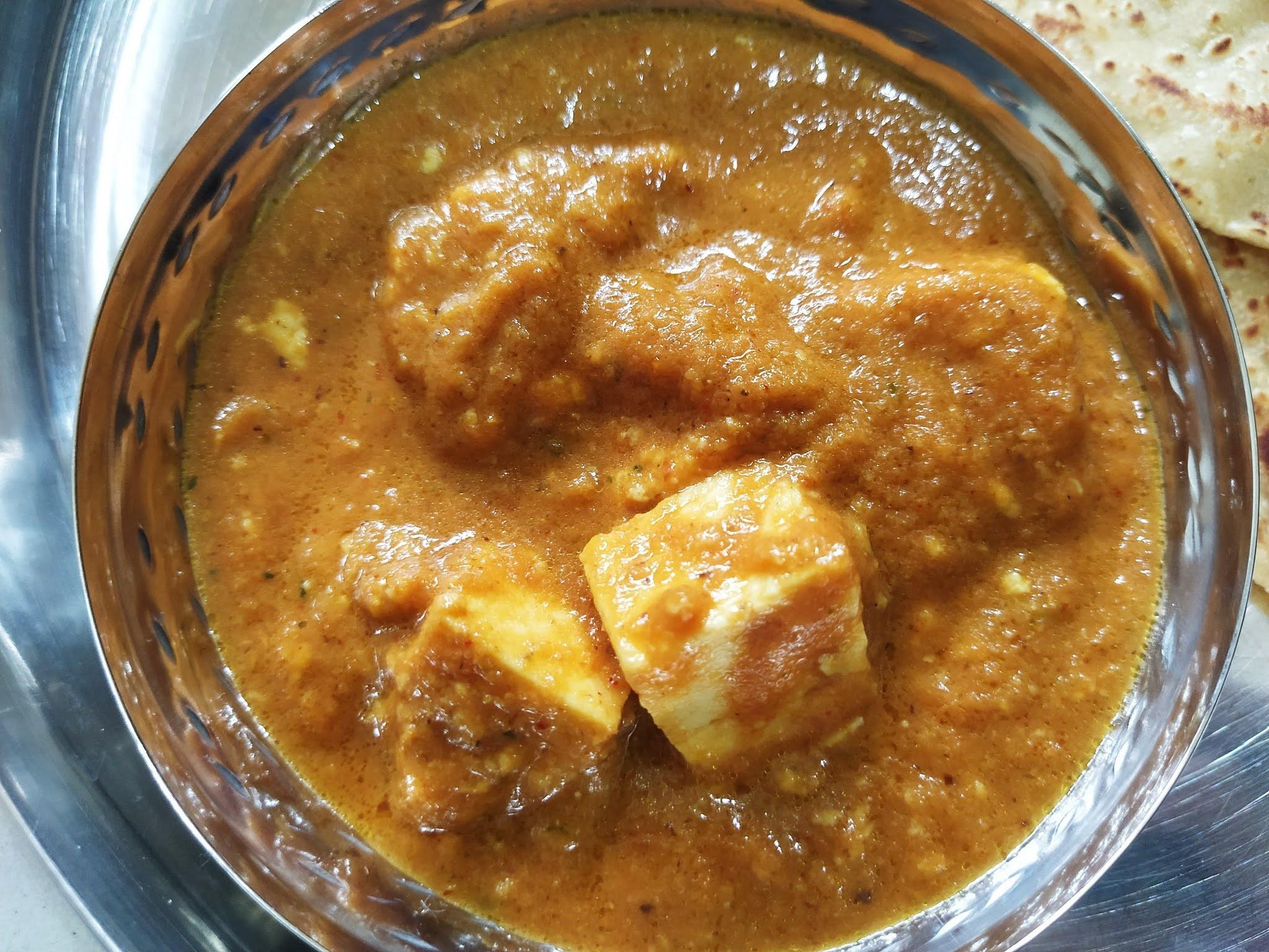paneer: (339, 147, 912, 850)
